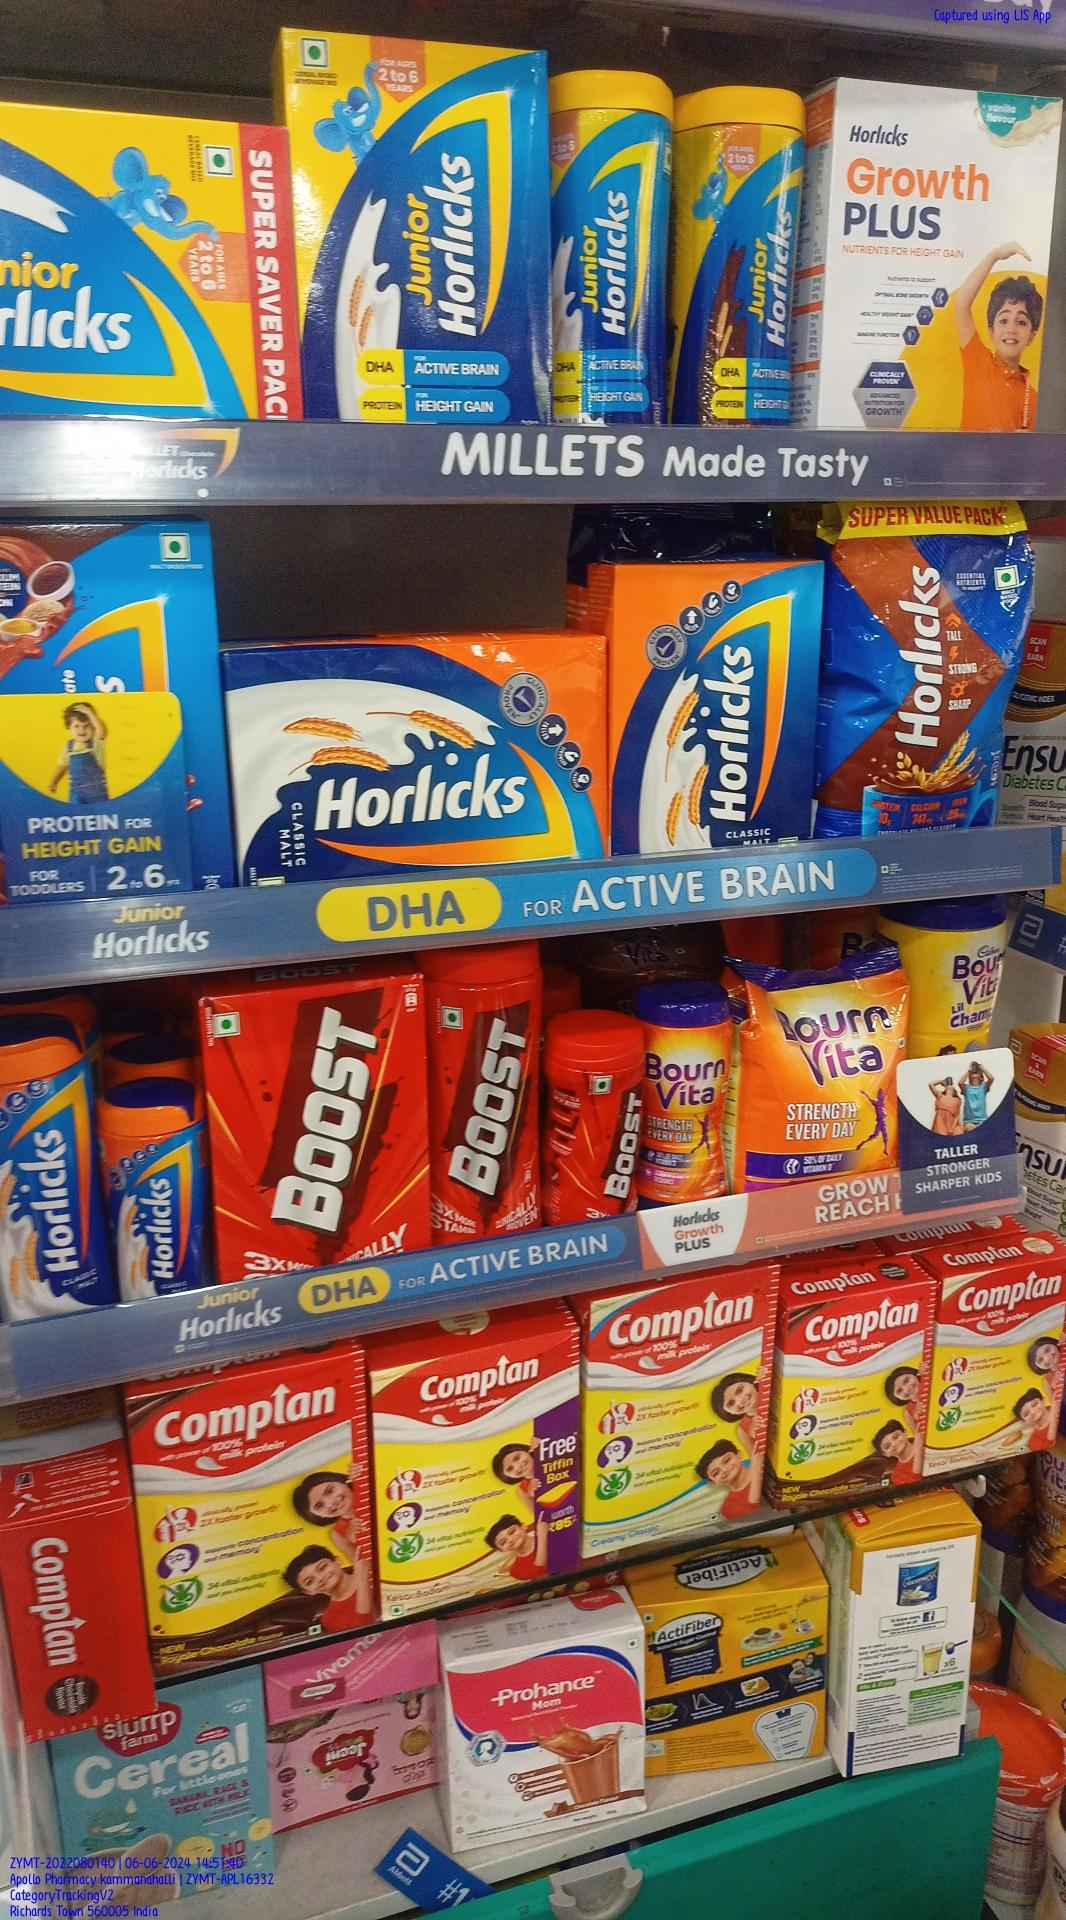COMPLAN_CHOCOLATE_200_GMS_PACK: (781, 1282, 927, 1509)
COMPLAN_CHOCOLATE_500_GMS_PACK: (137, 1352, 373, 1693)
COMPLAN_CREAMY_CLASSIC_500_G_PACK: (586, 1268, 775, 1554)
COMPLAN_KESAR_BADAM_200_GMS_PACK: (932, 1265, 1066, 1476)
COMPLAN_KESAR_BADAM_500_GMS_PACK: (378, 1323, 578, 1614)
HORLICK_CLASSIC_MALT_200_G_JAR: (109, 1096, 210, 1295)
HORLICK_CLASSIC_MALT_500_G_JAR: (0, 1017, 95, 1324)
